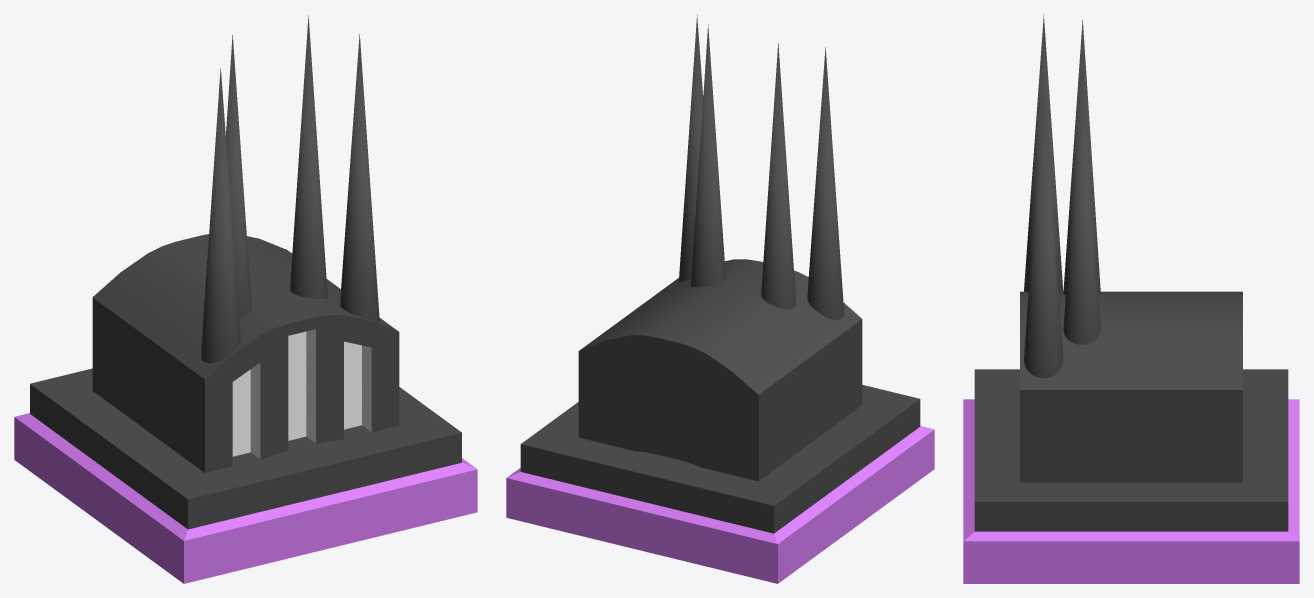
File: sagradafamilia.fbx
3 views of the same model, side by side, from view 1: azimuth 30°, elevation 25°; view 2: azimuth 150°, elevation 25°; view 3: azimuth 270°, elevation 25° (orthographic). The views are drawn at different scales.
Parts seen in each view (by area): view 1: SagradaFamilia; view 2: SagradaFamilia; view 3: SagradaFamilia.
Boxes of the visible parts, box(x1,y1,x2,y2) form: SagradaFamilia: box(14, 15, 477, 583); SagradaFamilia: box(506, 14, 934, 583); SagradaFamilia: box(963, 14, 1299, 583).
Size of the model in its own units: 100 by 157 by 100.
